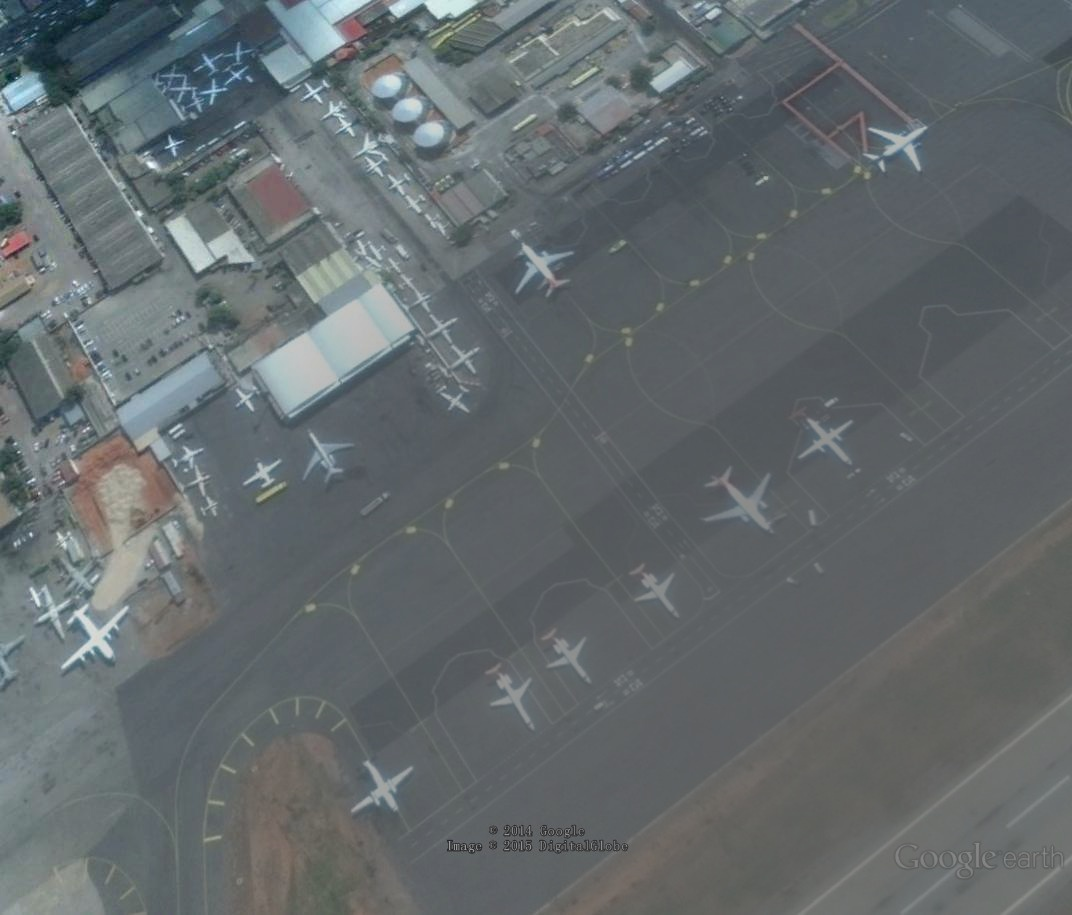aircraft: (697, 463, 777, 540), (59, 598, 136, 676), (784, 402, 859, 474), (347, 750, 418, 823), (481, 657, 541, 736), (516, 240, 580, 304), (628, 558, 687, 627), (864, 124, 936, 180), (538, 624, 597, 691), (299, 429, 359, 486), (32, 582, 82, 646), (59, 556, 104, 601), (1, 630, 29, 693), (173, 460, 215, 501), (443, 343, 485, 381), (242, 456, 284, 493), (436, 384, 476, 417), (169, 442, 208, 474), (425, 313, 464, 345), (193, 78, 233, 109), (349, 133, 389, 162), (191, 48, 226, 81), (164, 75, 200, 106), (175, 88, 208, 121), (299, 78, 334, 108), (221, 39, 254, 70), (158, 63, 191, 93), (401, 289, 437, 315), (362, 151, 394, 180), (385, 169, 415, 198), (319, 97, 352, 123), (218, 64, 253, 88), (160, 132, 190, 160), (403, 190, 430, 219), (233, 387, 260, 415), (362, 241, 389, 267), (380, 253, 407, 279), (197, 493, 221, 522), (392, 273, 419, 298), (362, 250, 388, 274), (334, 117, 358, 142), (25, 583, 44, 613), (53, 529, 73, 555), (352, 238, 370, 261), (432, 218, 451, 239), (425, 212, 440, 230)
